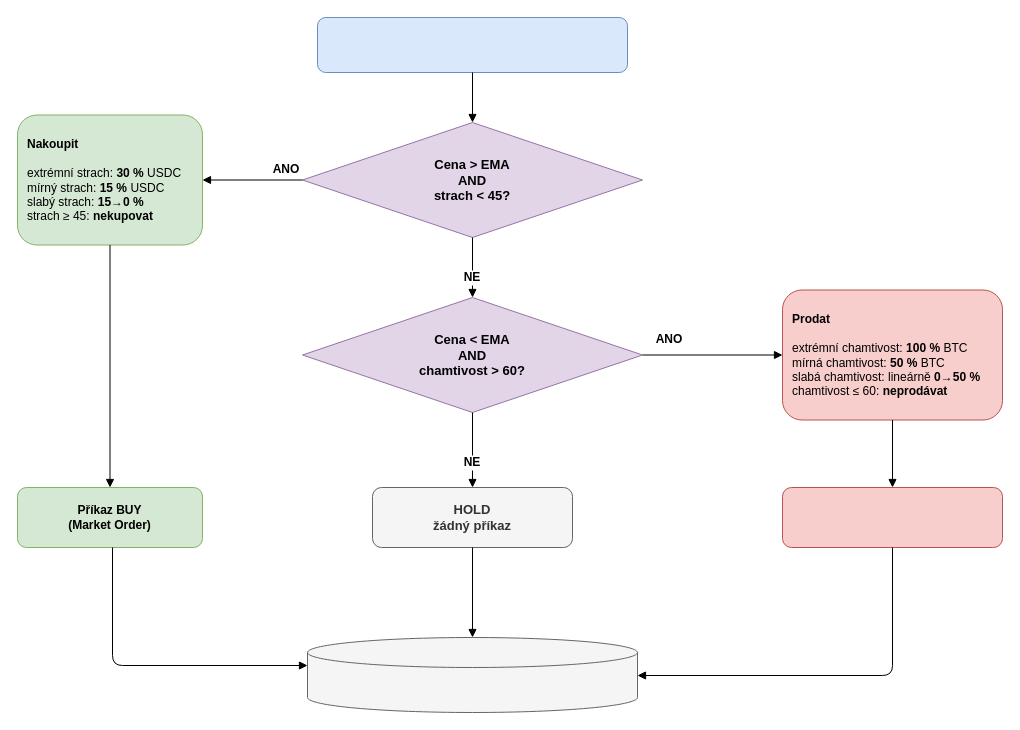
Some shapes in this 1020 by 730 pixel diagram are drawn without their labels. The shapes that lost their labels are listed below. From the top down, each one's centre as x and y in pixels, then its label:
At (x=472, y=44): "Data načtena cena BTC, EMA-21, Fear & Greed index, zůstatek".
At (x=892, y=517): "Příkaz SELL (Market Order)".
At (x=472, y=674): "Uložit do SQLite DB (ema_fng_trades.db) signál, cena, EMA, F&G, výsledek příkazu".
